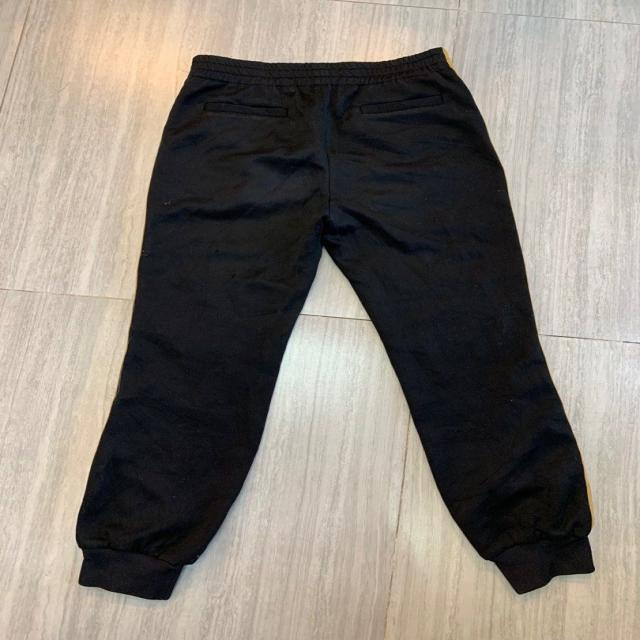long-pants: (81, 38, 610, 601)
